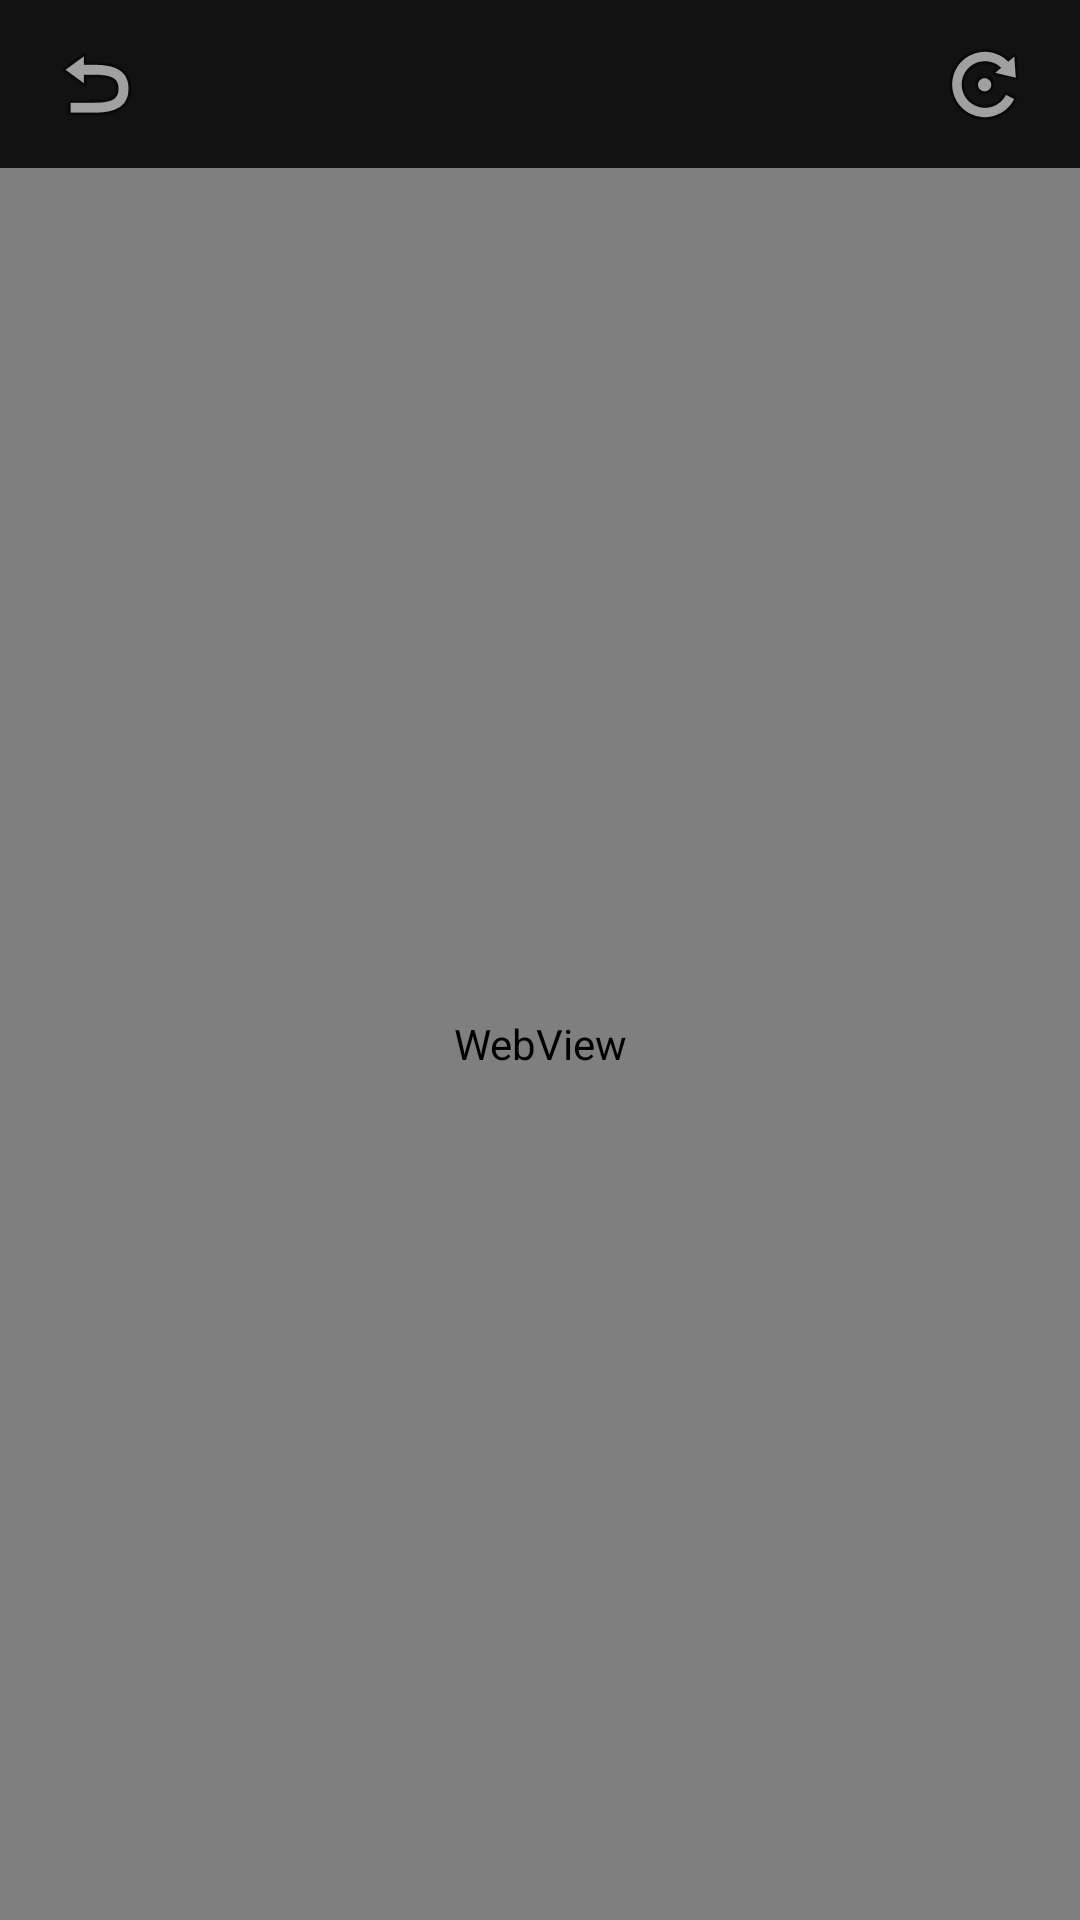

Screen size 1080×1920. Icon name, then its center in pixels as (x=x, y=y):
Back: (x=97, y=84)
Refresh: (x=984, y=84)
